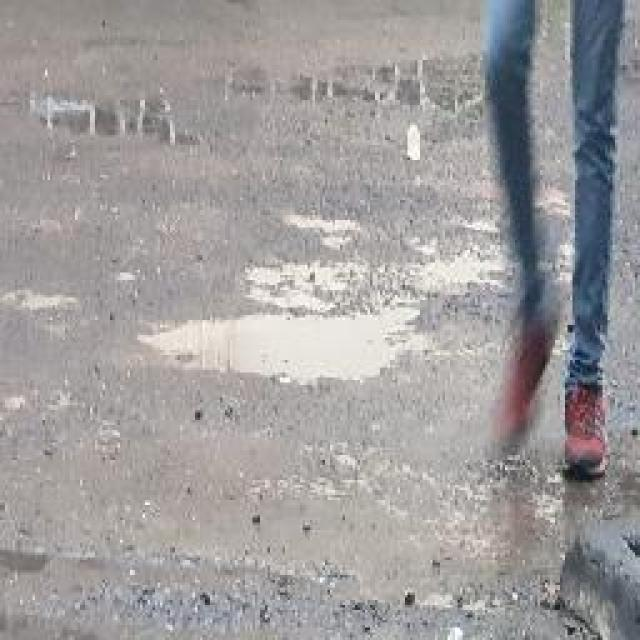stagnation: (164, 290, 435, 394)
